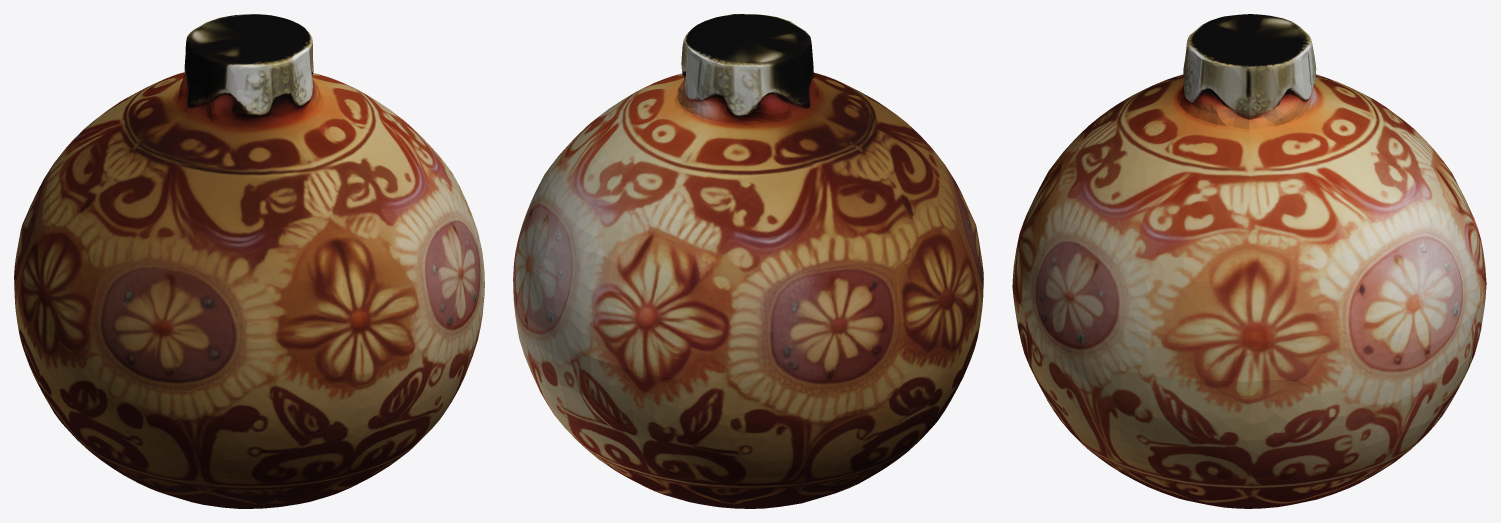
The model's file is ceramic-christmas-ornament-rustic.jpeg.glb.
3 renders of one model, left to right at view 1: azimuth 30°, elevation 25°; view 2: azimuth 150°, elevation 25°; view 3: azimuth 270°, elevation 25°, orthographic.
Parts seen in each view (by area): view 1: world; view 2: world; view 3: world.
Part boxes in pixels (bbox=[...]): world: bbox=[14, 14, 484, 508]; world: bbox=[513, 14, 983, 508]; world: bbox=[1012, 14, 1486, 508].
Size of the model in its own units: 0.9534 by 0.9899 by 0.9545.
Materials: 1 (1 with a texture image).
